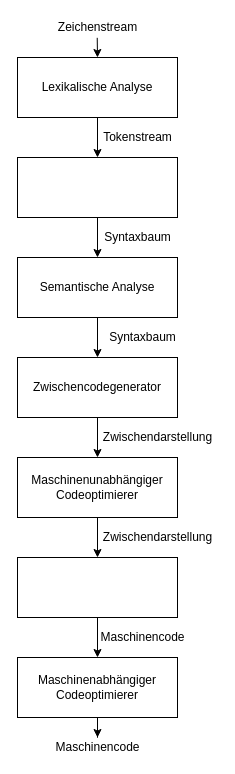
Image size: 235x774. Some labels were removed from this diagram. The shapes that lost their labels are listed below. From the top down, each one's box as (x1, y1, x2, y2) in pixels, then its label:
(16, 156, 178, 218): Syntaxanalyse
(16, 556, 178, 618): CodeGenerator
